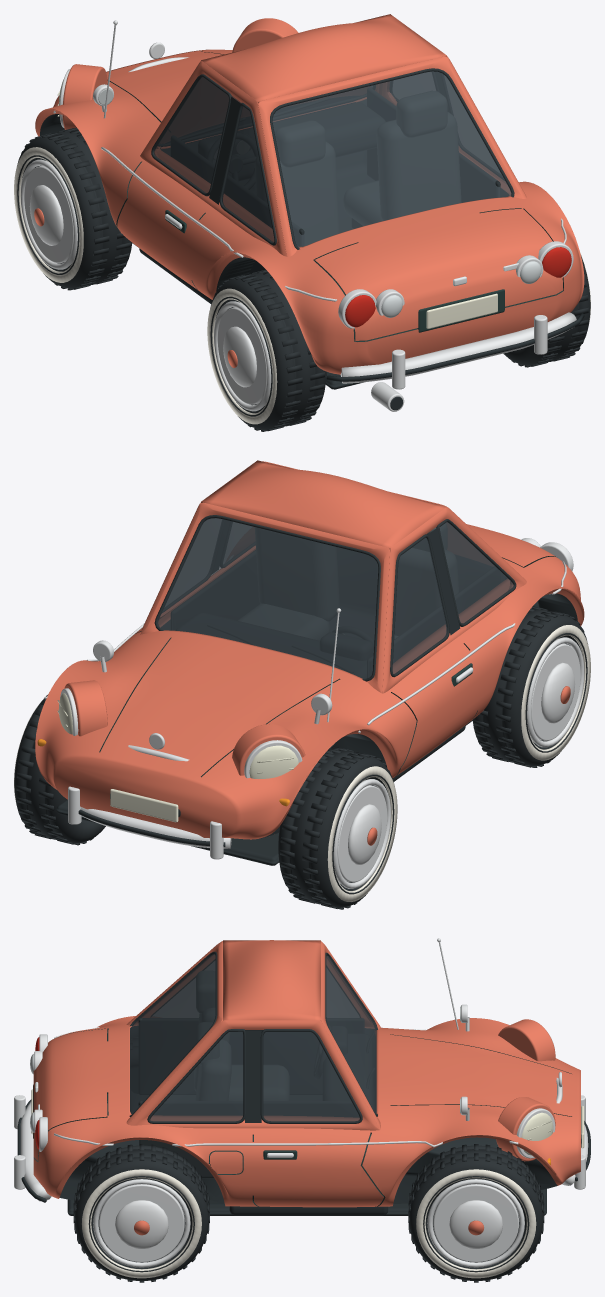
File: beetle.fbx
The picture shows the model from 3 angles, top to bottom: view 1: azimuth 30°, elevation 25°; view 2: azimuth 150°, elevation 25°; view 3: azimuth 270°, elevation 25°; orthographic projection. The views are drawn at different scales.
Parts seen in each view (by area): view 1: Body, Wheel_RL_Mesh, Wheel_FL_Mesh, Wheel_RR_Mesh; view 2: Body, Wheel_FL_Mesh, Wheel_RL_Mesh, Wheel_FR_Mesh; view 3: Body, Wheel_RR_Mesh, Wheel_FR_Mesh, Wheel_RL_Mesh.
Part boxes in pixels (x1=…): Body: x1=35, y1=14, x2=584, y2=411; Wheel_RL_Mesh: x1=207, y1=269, x2=326, y2=431; Wheel_FL_Mesh: x1=14, y1=127, x2=132, y2=290; Wheel_RR_Mesh: x1=503, y1=252, x2=590, y2=367; Body: x1=35, y1=460, x2=584, y2=865; Wheel_FL_Mesh: x1=278, y1=746, x2=397, y2=909; Wheel_RL_Mesh: x1=472, y1=606, x2=590, y2=767; Wheel_FR_Mesh: x1=14, y1=695, x2=105, y2=845; Body: x1=14, y1=938, x2=590, y2=1215; Wheel_RR_Mesh: x1=73, y1=1144, x2=209, y2=1282; Wheel_FR_Mesh: x1=408, y1=1144, x2=544, y2=1282; Wheel_RL_Mesh: x1=130, y1=1037, x2=138, y2=1093.
Bounding box in the file's own units: 197 × 170 × 342.
